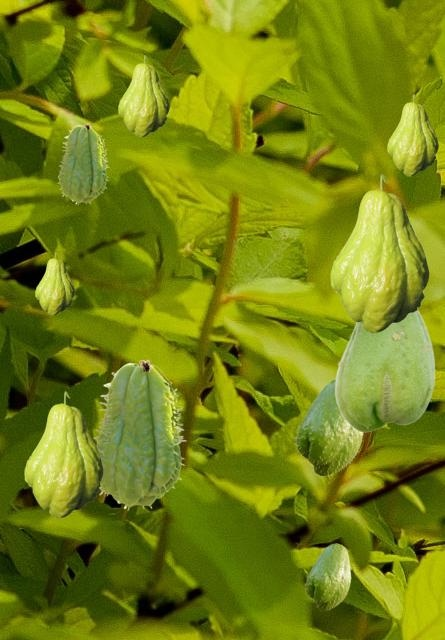sayote: (330, 174, 428, 332), (92, 359, 185, 510), (334, 310, 434, 431), (24, 391, 102, 517), (294, 379, 363, 476), (57, 123, 108, 204), (118, 55, 168, 136), (387, 94, 437, 175), (304, 543, 350, 610), (35, 252, 73, 314)
